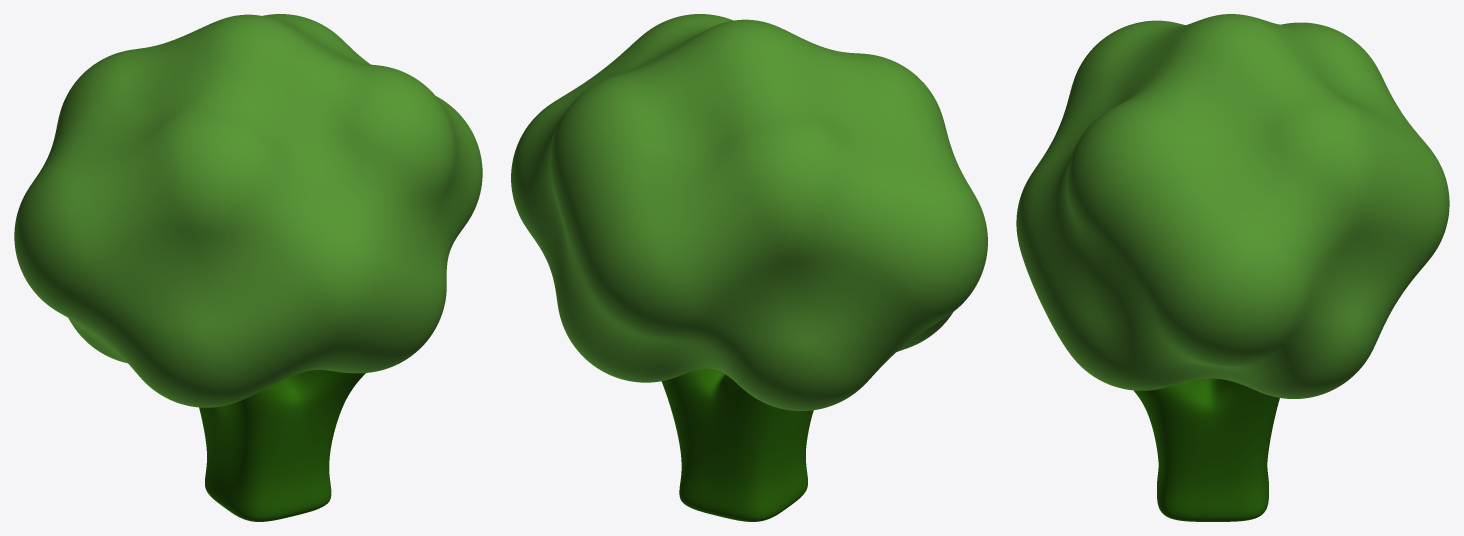
Rendered from brocoli.fbx.
The picture shows the model from 3 angles, left to right: view 1: azimuth 30°, elevation 25°; view 2: azimuth 150°, elevation 25°; view 3: azimuth 270°, elevation 25°; orthographic projection.
Parts seen in each view (by area): view 1: Mball.014, Cube.001; view 2: Mball.014, Cube.001; view 3: Mball.014, Cube.001.
Part boxes in pixels (x1,y1,x2,y2): Mball.014: [14, 14, 482, 407]; Cube.001: [199, 369, 365, 521]; Mball.014: [511, 14, 987, 410]; Cube.001: [661, 368, 813, 521]; Mball.014: [1016, 14, 1449, 398]; Cube.001: [1133, 378, 1279, 521].
Bounding box in the file's own units: 182 × 186 × 153.
